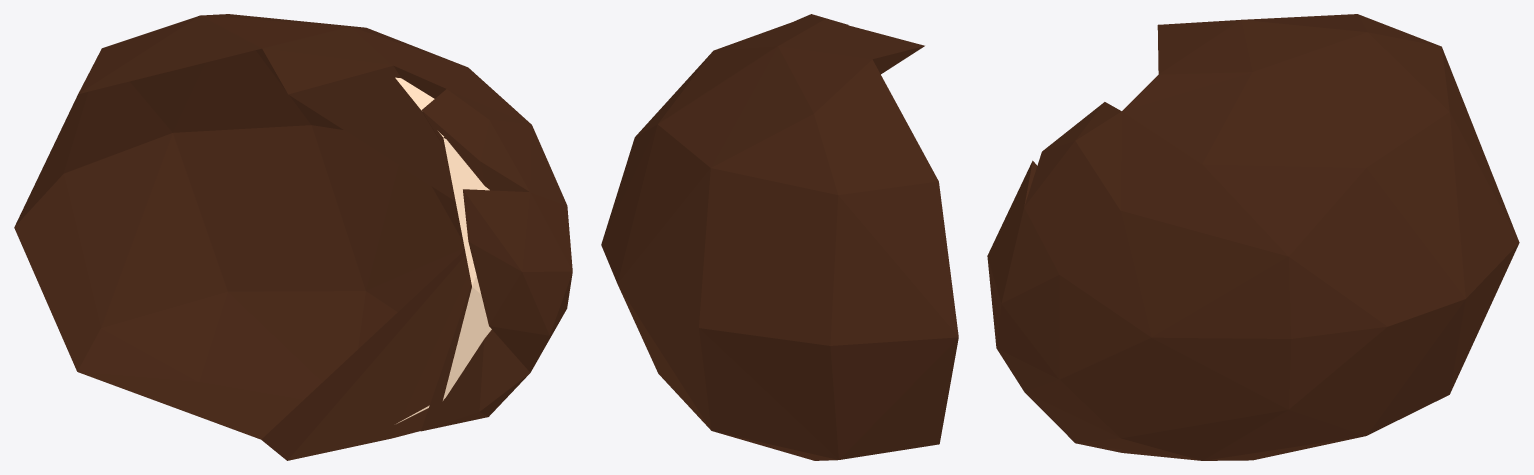
File: hair3.glb
3 views of the same model, side by side, from view 1: azimuth 30°, elevation 25°; view 2: azimuth 150°, elevation 25°; view 3: azimuth 270°, elevation 25° (orthographic). The views are drawn at different scales.
Parts seen in each view (by area): view 1: tomodachi-2026-03-08-00-31-03-195, tomodachi-2026-03-08-00-31-03-195.008; view 2: tomodachi-2026-03-08-00-31-03-195; view 3: tomodachi-2026-03-08-00-31-03-195.
Part boxes in pixels (x1,y1,x2,y2): tomodachi-2026-03-08-00-31-03-195: (14,14,572,460); tomodachi-2026-03-08-00-31-03-195.008: (395,77,491,423); tomodachi-2026-03-08-00-31-03-195: (601,14,958,460); tomodachi-2026-03-08-00-31-03-195: (987,14,1519,460).
Size of the model in its own units: 1.14 by 1.04 by 1.26.
2 materials, 2 textured.
